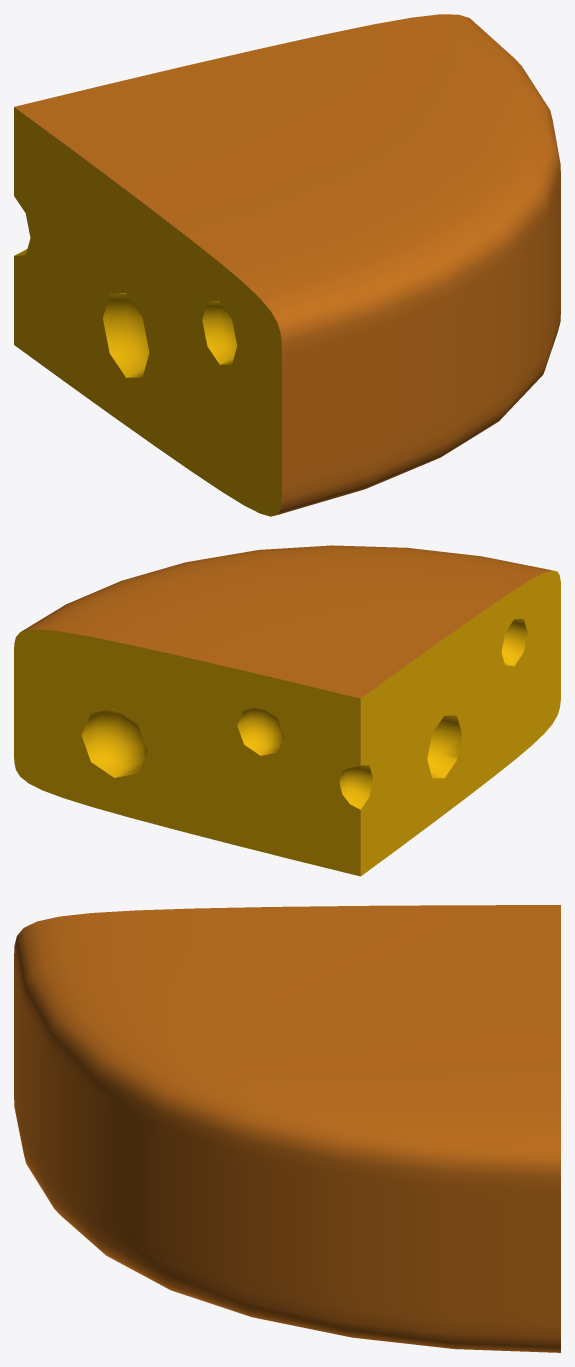
Rendered from cheeseQuarter.fbx.
3 renders of one model, top to bottom at view 1: azimuth 30°, elevation 25°; view 2: azimuth 150°, elevation 25°; view 3: azimuth 270°, elevation 25°, orthographic. The views are drawn at different scales.
Parts seen in each view (by area): view 1: Cube; view 2: Cube; view 3: Cube.
Part boxes in pixels (x1=…): Cube: x1=14, y1=14, x2=560, y2=516; Cube: x1=14, y1=545, x2=560, y2=876; Cube: x1=14, y1=905, x2=560, y2=1352.
Size of the model in its own units: 91.67 by 44.93 by 91.67.
